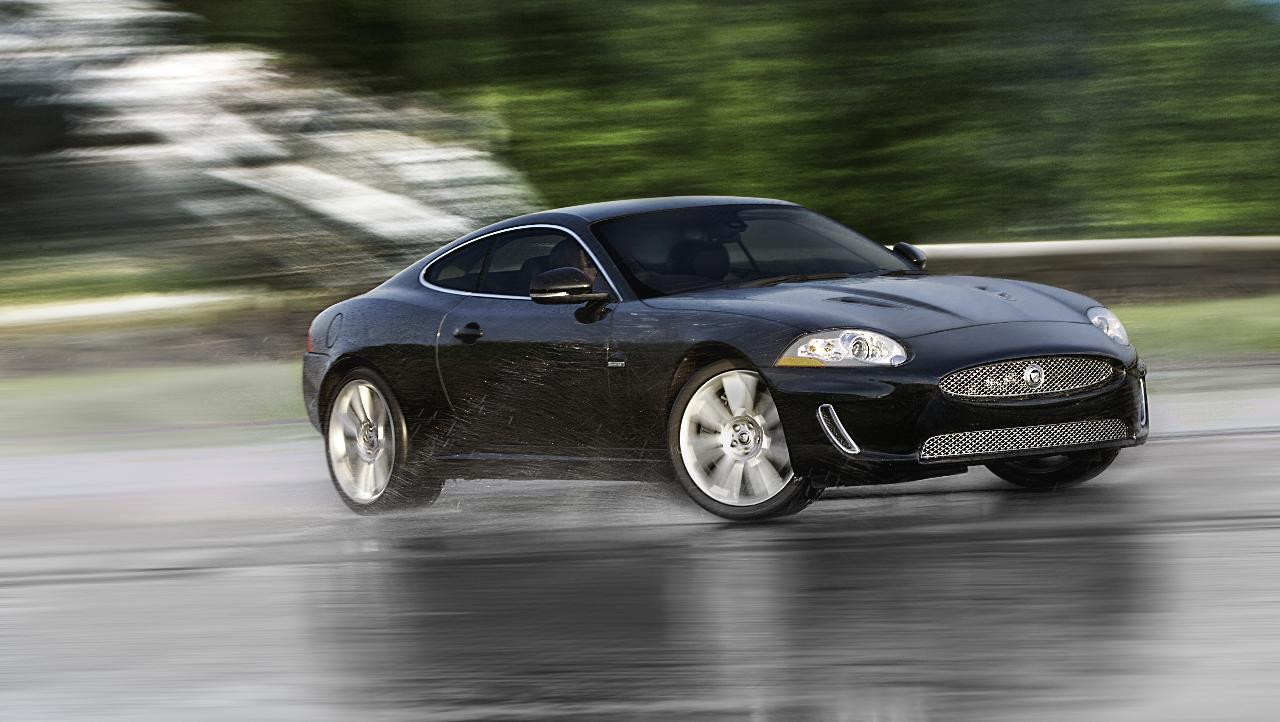Car: (253, 164, 1170, 542)
